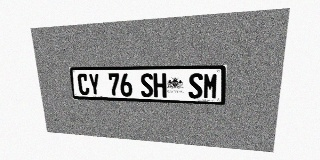6: (119, 73, 132, 97)
7: (107, 73, 120, 96)
C: (77, 73, 90, 95)
H: (153, 73, 166, 98)
M: (203, 73, 218, 99)
S: (188, 73, 203, 99), (140, 73, 153, 97)
Y: (88, 73, 101, 96)
